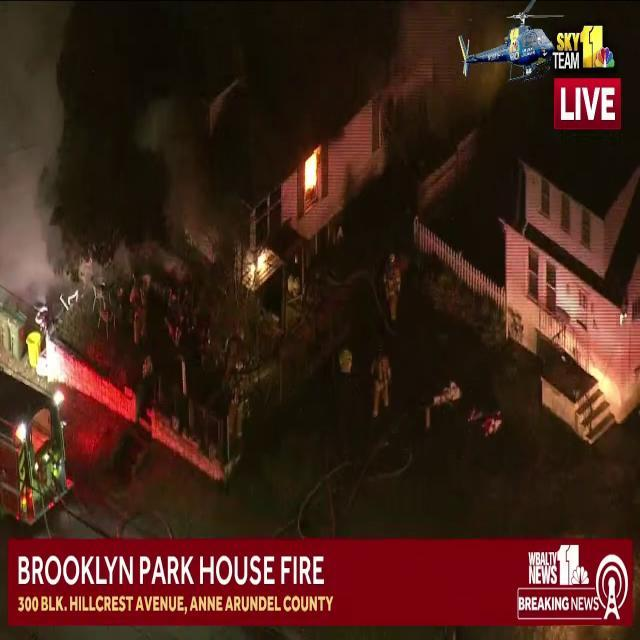Fire: (302, 142, 321, 198)
Smoke: (0, 3, 68, 313)
